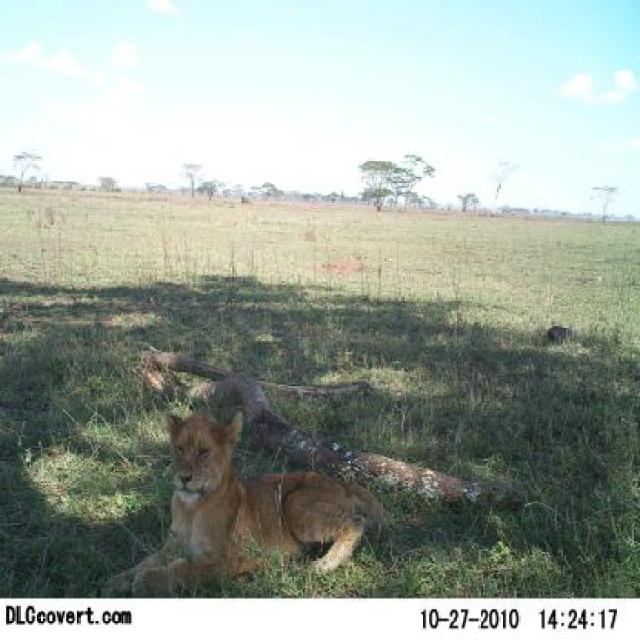Lion: (99, 395, 392, 608)
